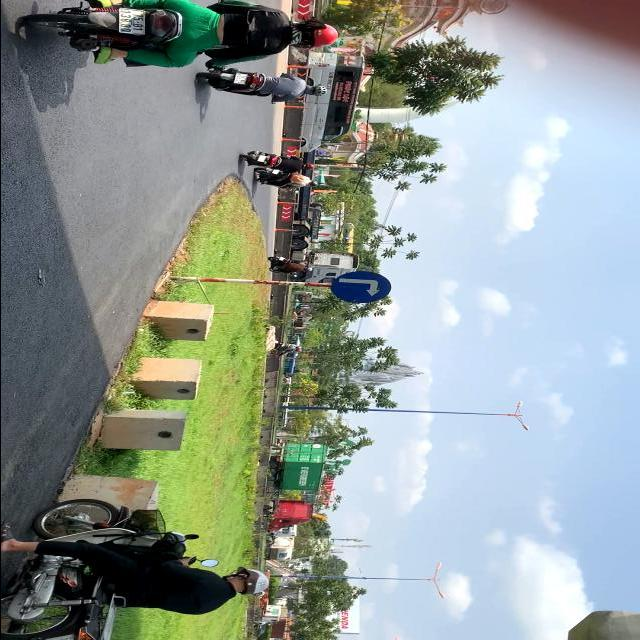R-301d: (330, 272, 392, 304)
